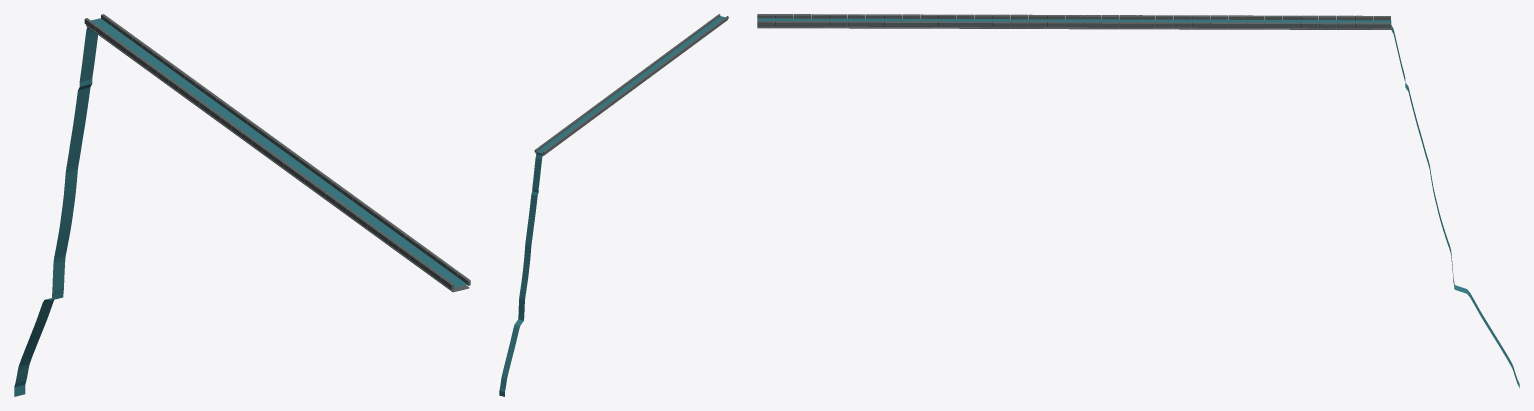
Rendered from WaterChannel_Prototype.fbx.
3 views of the same model, side by side, from view 1: azimuth 30°, elevation 25°; view 2: azimuth 150°, elevation 25°; view 3: azimuth 270°, elevation 25° (orthographic). The views are drawn at different scales.
Visible parts, largest first — view 1: Channel_Waterfall_Surface, Channel_Water_Surface, Channel_Curb_Left, Channel_Curb_Right, Channel_Bed; view 2: Channel_Waterfall_Surface, Channel_Water_Surface, Channel_Curb_Left, Channel_Curb_Right, Channel_Bed; view 3: Channel_Curb_Right, Channel_Curb_Left, Channel_Water_Surface, Channel_Bed, Channel_Waterfall_Surface.
Part boxes in pixels (box(x1,y1,x2,y2)): Channel_Waterfall_Surface: box(14, 27, 97, 396); Channel_Water_Surface: box(91, 18, 467, 287); Channel_Curb_Left: box(84, 18, 454, 289); Channel_Curb_Right: box(101, 14, 470, 285); Channel_Bed: box(86, 25, 469, 292); Channel_Waterfall_Surface: box(499, 152, 542, 396); Channel_Water_Surface: box(537, 16, 724, 153); Channel_Curb_Left: box(543, 16, 728, 154); Channel_Curb_Right: box(534, 14, 720, 152); Channel_Bed: box(535, 19, 727, 155); Channel_Curb_Right: box(757, 21, 1390, 28); Channel_Curb_Left: box(757, 14, 1390, 20); Channel_Water_Surface: box(757, 18, 1391, 25); Channel_Bed: box(757, 24, 1391, 29); Channel_Waterfall_Surface: box(1391, 25, 1519, 387).
Bounding box in the file's own units: 212 × 4511 × 8275.
